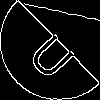U: (25, 25, 84, 83)
